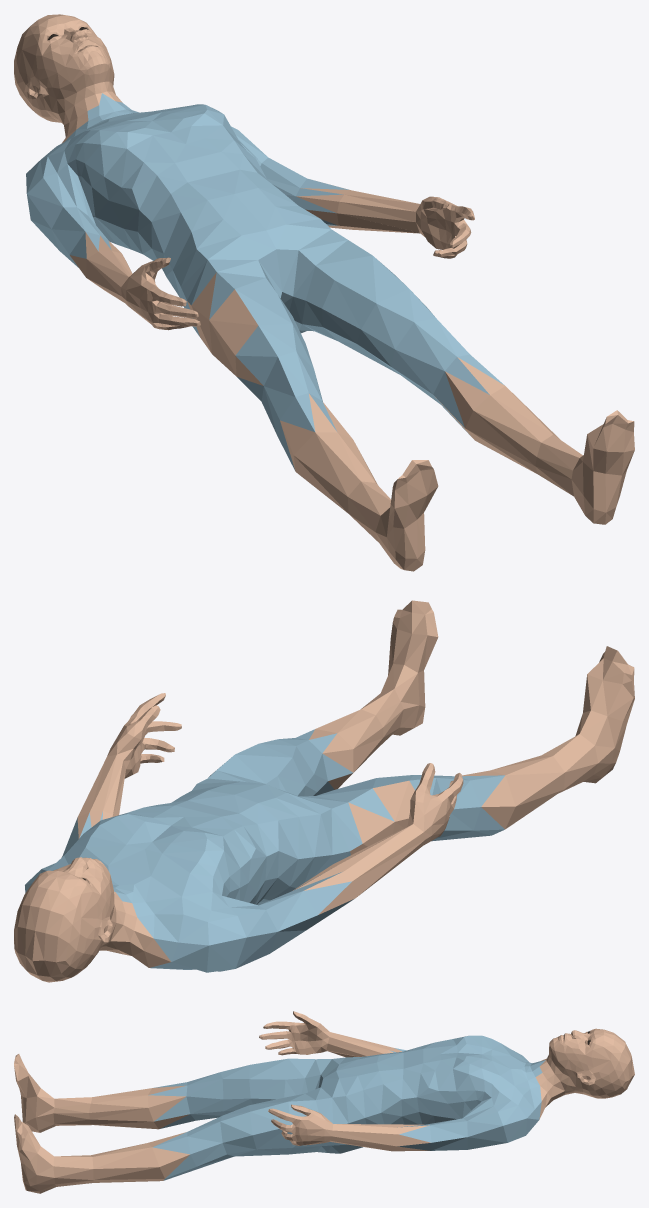
The model's file is patient_human.obj.
3 renders of one model, top to bottom at view 1: azimuth 30°, elevation 25°; view 2: azimuth 150°, elevation 25°; view 3: azimuth 270°, elevation 25°, orthographic. The views are drawn at different scales.
Parts seen in each view (by area): view 1: Mesh47 average_male_1_1 Model; view 2: Mesh47 average_male_1_1 Model; view 3: Mesh47 average_male_1_1 Model.
Part boxes in pixels (bbox=[...]): Mesh47 average_male_1_1 Model: bbox=[14, 14, 634, 571]; Mesh47 average_male_1_1 Model: bbox=[14, 600, 634, 982]; Mesh47 average_male_1_1 Model: bbox=[14, 1011, 634, 1193].
Size of the model in its own units: 0.6225 by 0.3855 by 1.63.
